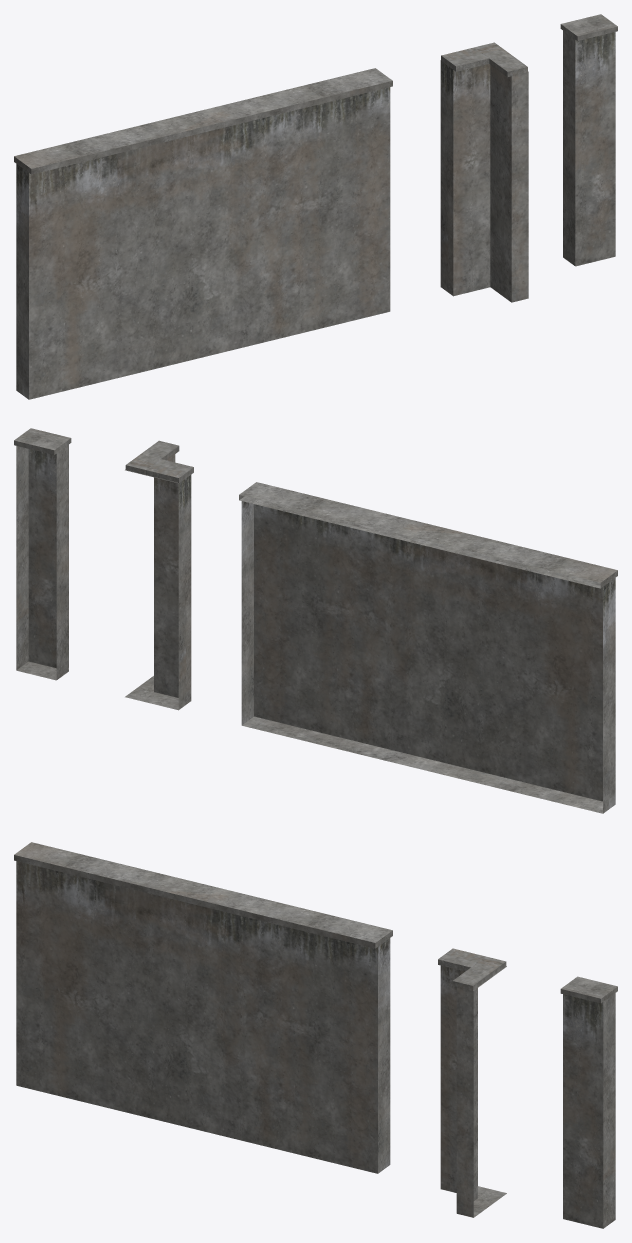
File: wall_low_poly.glb
3 views of the same model, one above another, from view 1: azimuth 30°, elevation 25°; view 2: azimuth 150°, elevation 25°; view 3: azimuth 330°, elevation 25° (orthographic).
Visible parts, largest first — view 1: Object_2; view 2: Object_2; view 3: Object_2.
Boxes of the visible parts, x1,y1,x2,y2 form: Object_2: (14, 14, 617, 399); Object_2: (14, 428, 617, 813); Object_2: (14, 842, 617, 1228).
Size of the model in its own units: 812 by 308 by 86.72.
1 material, 1 textured.
